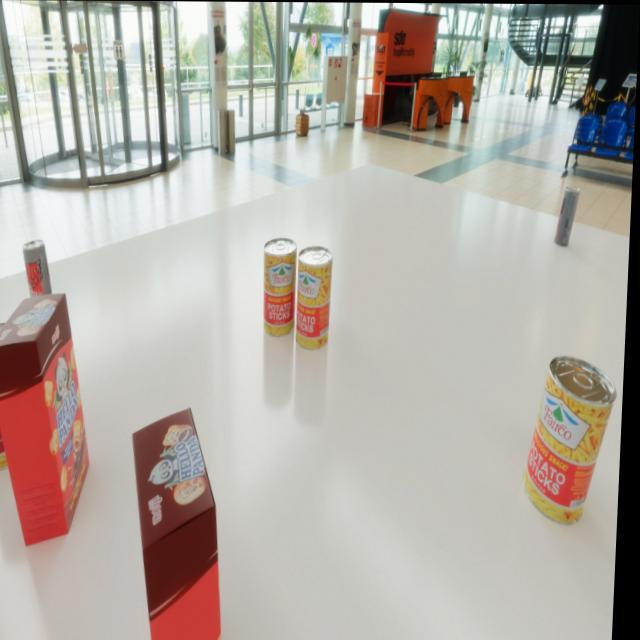HelloPanda: (129, 407, 243, 640), (0, 292, 100, 546)
Potato_sticks: (526, 354, 622, 524), (0, 321, 47, 472), (297, 245, 336, 350), (263, 237, 301, 337)
Rita_zero_sugar: (22, 239, 61, 324), (556, 186, 582, 246)
